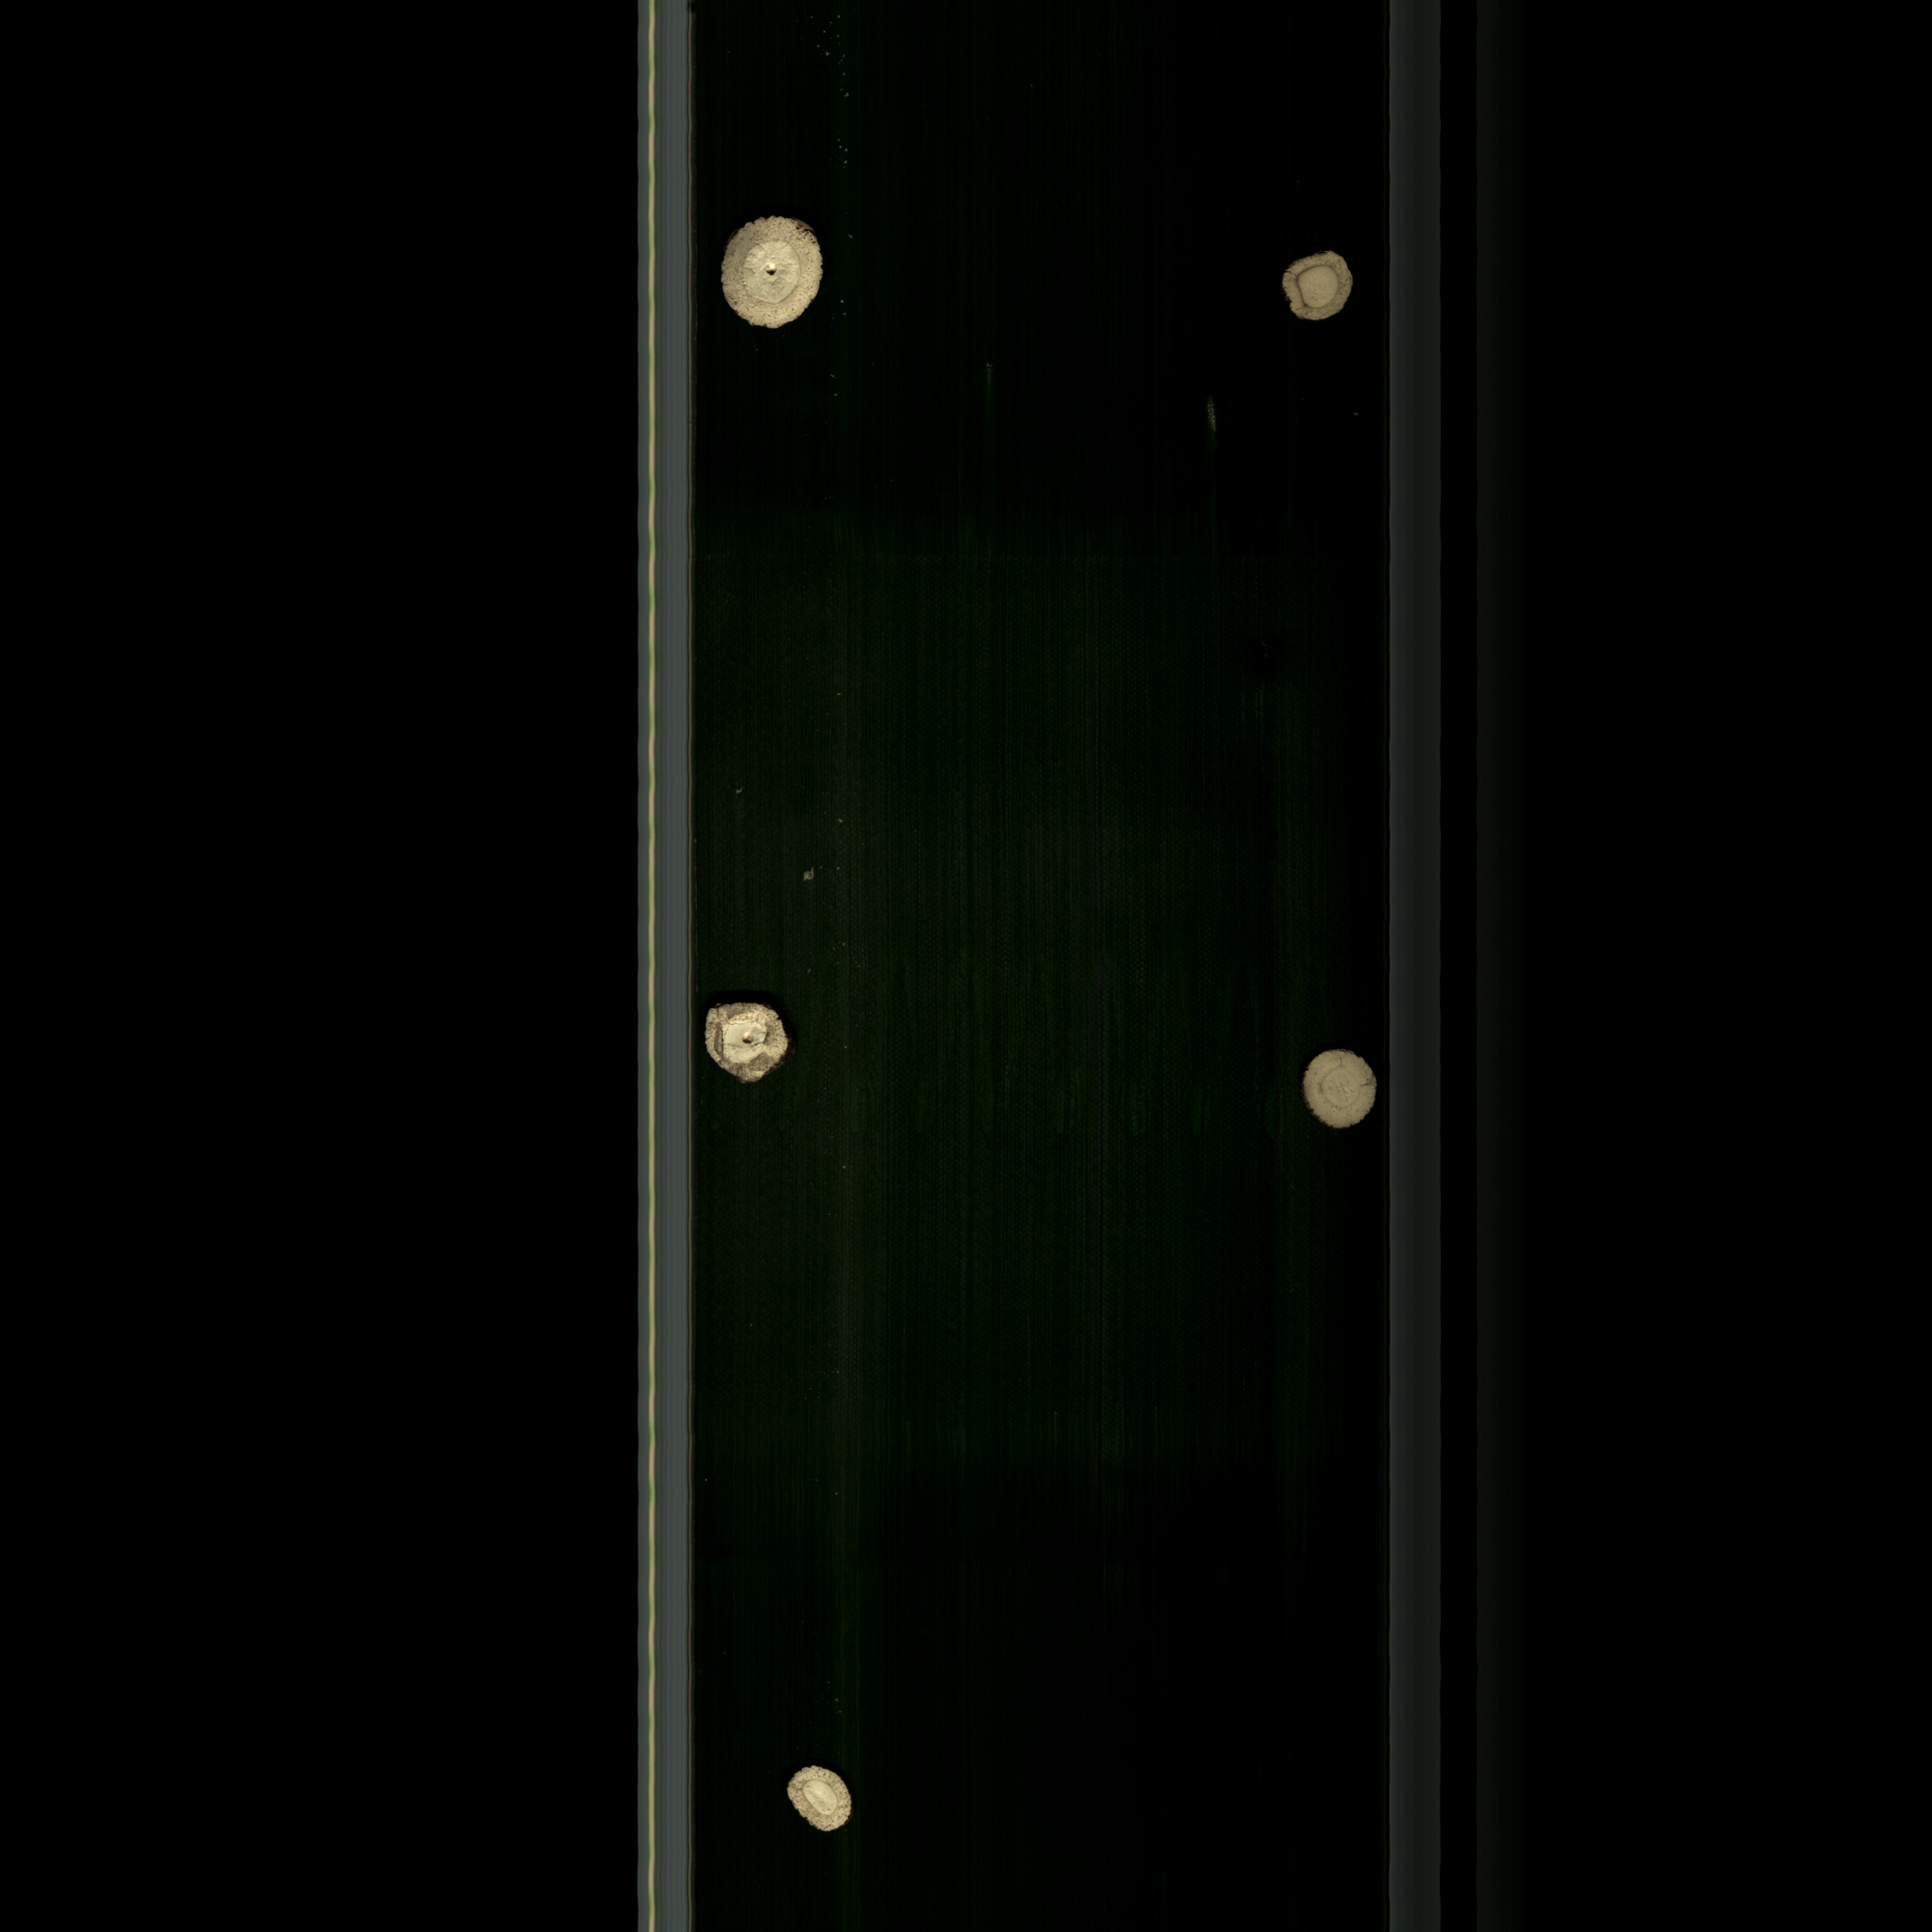hole: (713, 212, 835, 338)
moldy: (701, 1001, 803, 1092), (1269, 244, 1362, 329)
